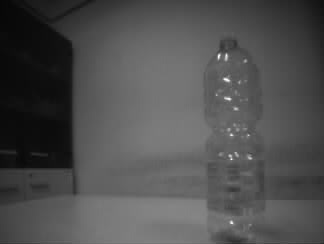Bottle: (202, 29, 264, 244)
